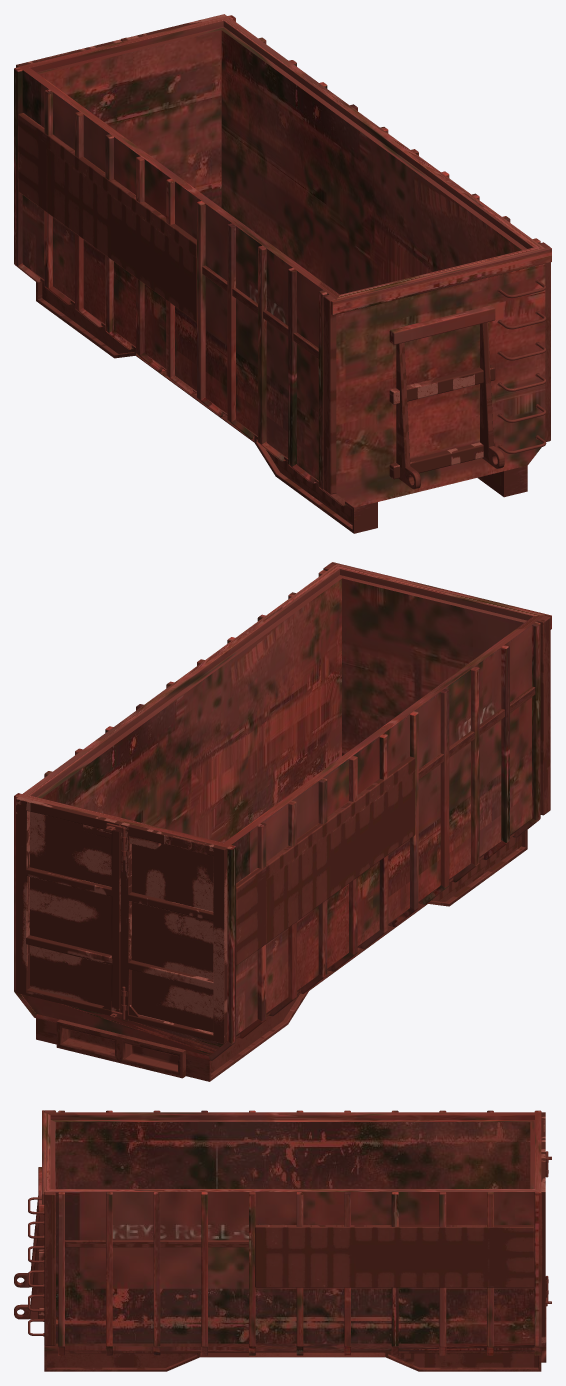
The model's file is rolloff.glb.
The picture shows the model from 3 angles, top to bottom: view 1: azimuth 30°, elevation 25°; view 2: azimuth 150°, elevation 25°; view 3: azimuth 270°, elevation 25°; orthographic projection. The views are drawn at different scales.
Parts seen in each view (by area): view 1: dock; view 2: dock; view 3: dock.
Boxes of the visible parts, x1,y1,x2,y2 form: dock: (14,14,551,533); dock: (14,562,551,1081); dock: (14,1110,551,1371).
Bounding box in the file's own units: 3.26 × 3.37 × 8.81.
4 materials, 4 textured.
